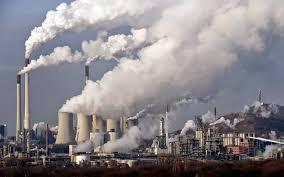smoke: (16, 0, 284, 152)
